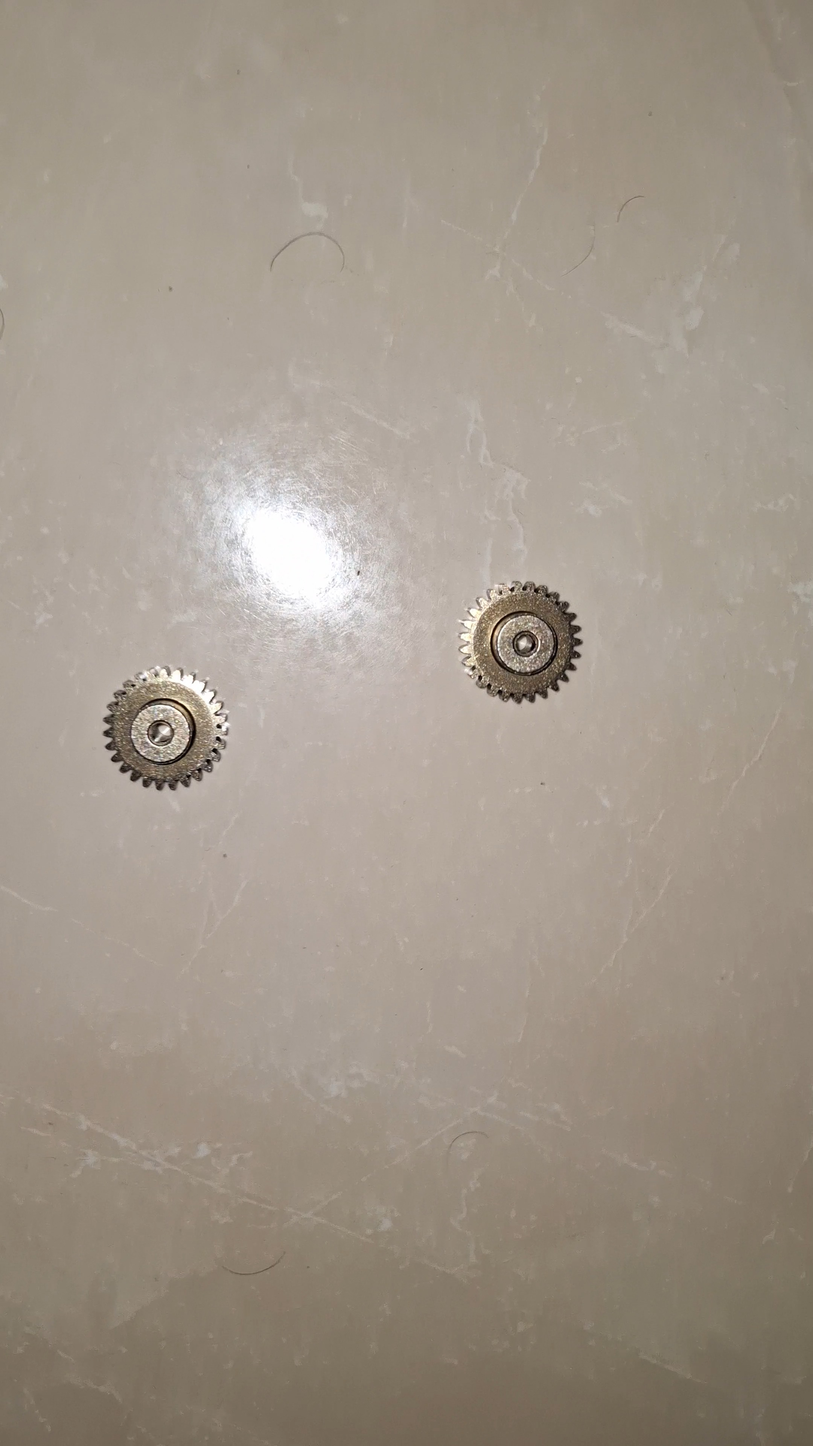spur gear: (105, 667, 228, 789), (460, 582, 580, 702)
